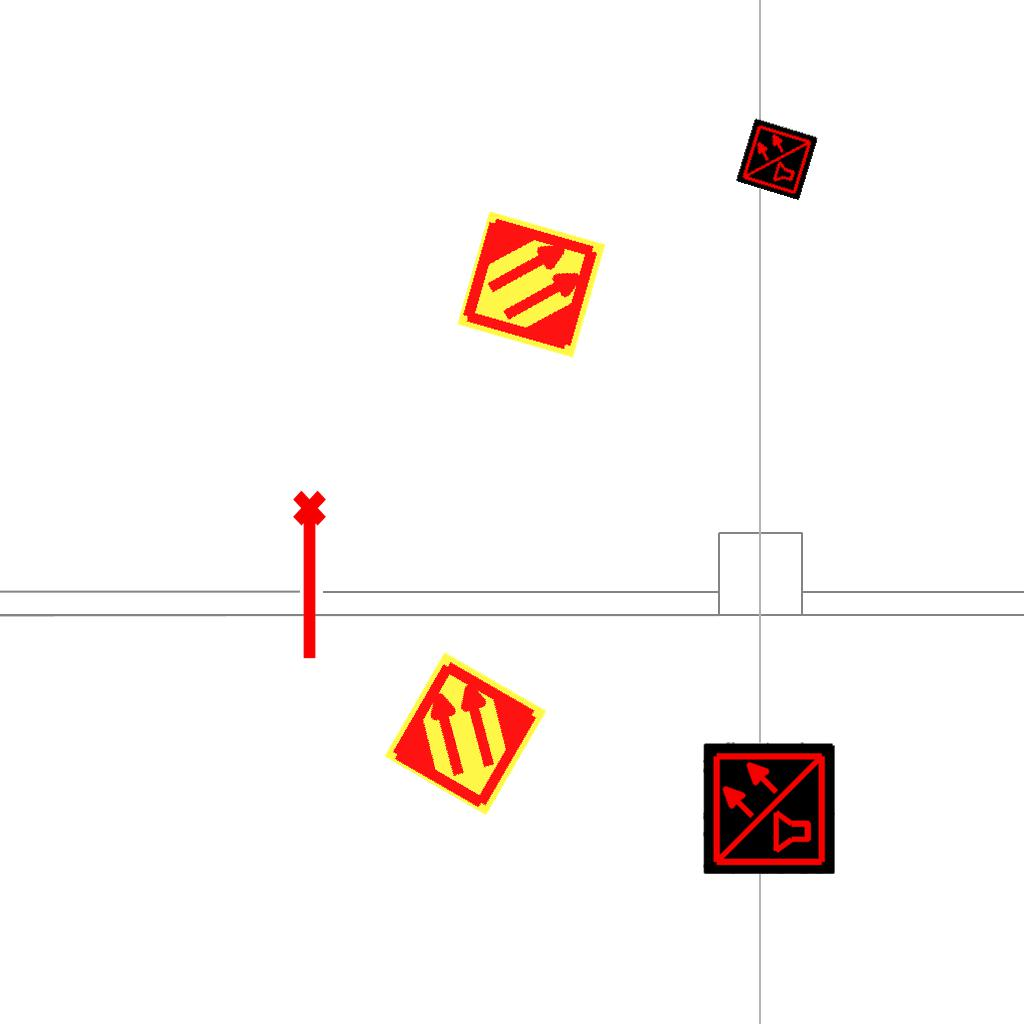ASR_Ansaugoeffnung: (289, 488, 335, 664)
ASR_Ansaugrauchmelder: (380, 648, 551, 819), (454, 207, 609, 362)
OKW_Multisensormelder_(Kombination_optischer_Rauch-Kahlenmonoxid_Waerme-Melder): (703, 742, 835, 874), (735, 117, 819, 201)
